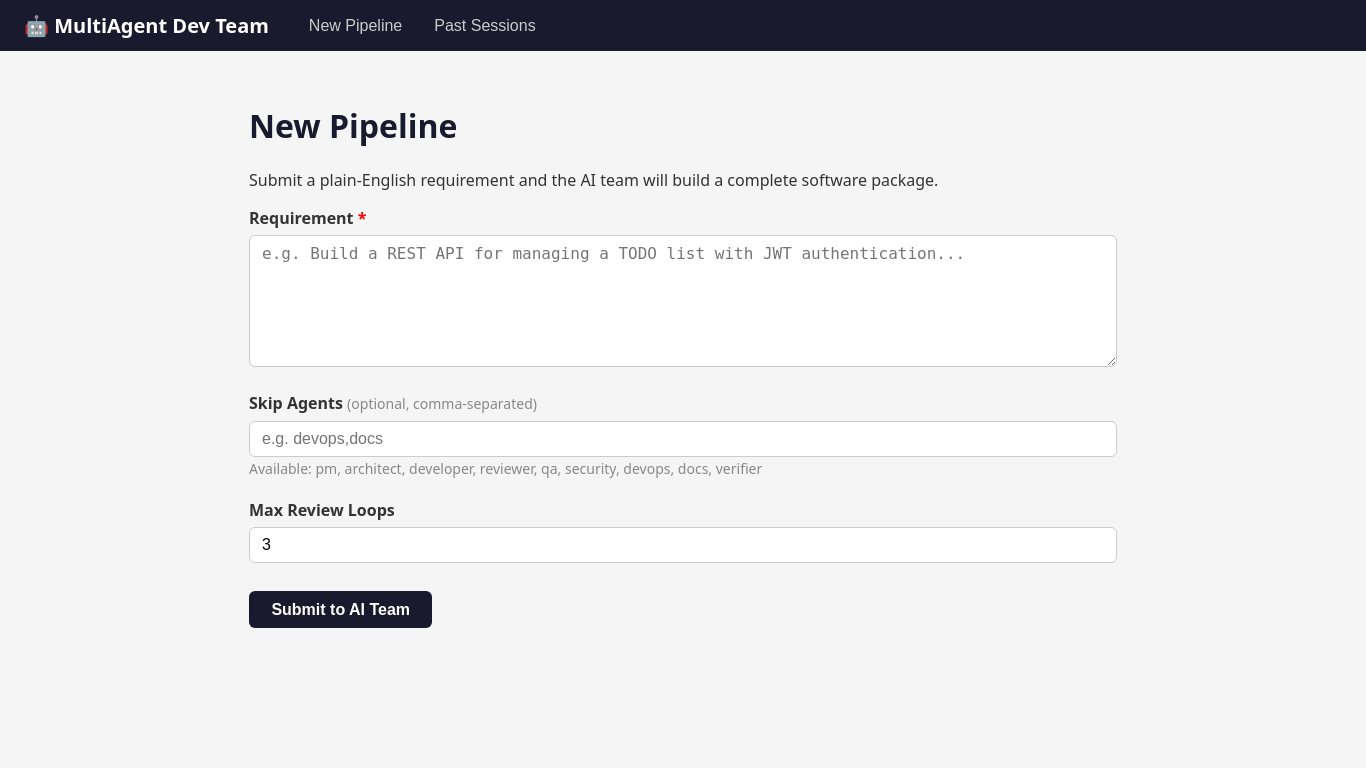
Test: App › shows progress log after submit
The image size is (1366, 768).
Type "Build a TODO REST API with authentication" into the text box with test id "requirement-input" at (683, 301), box x1=249 y1=235 x2=1117 y2=367
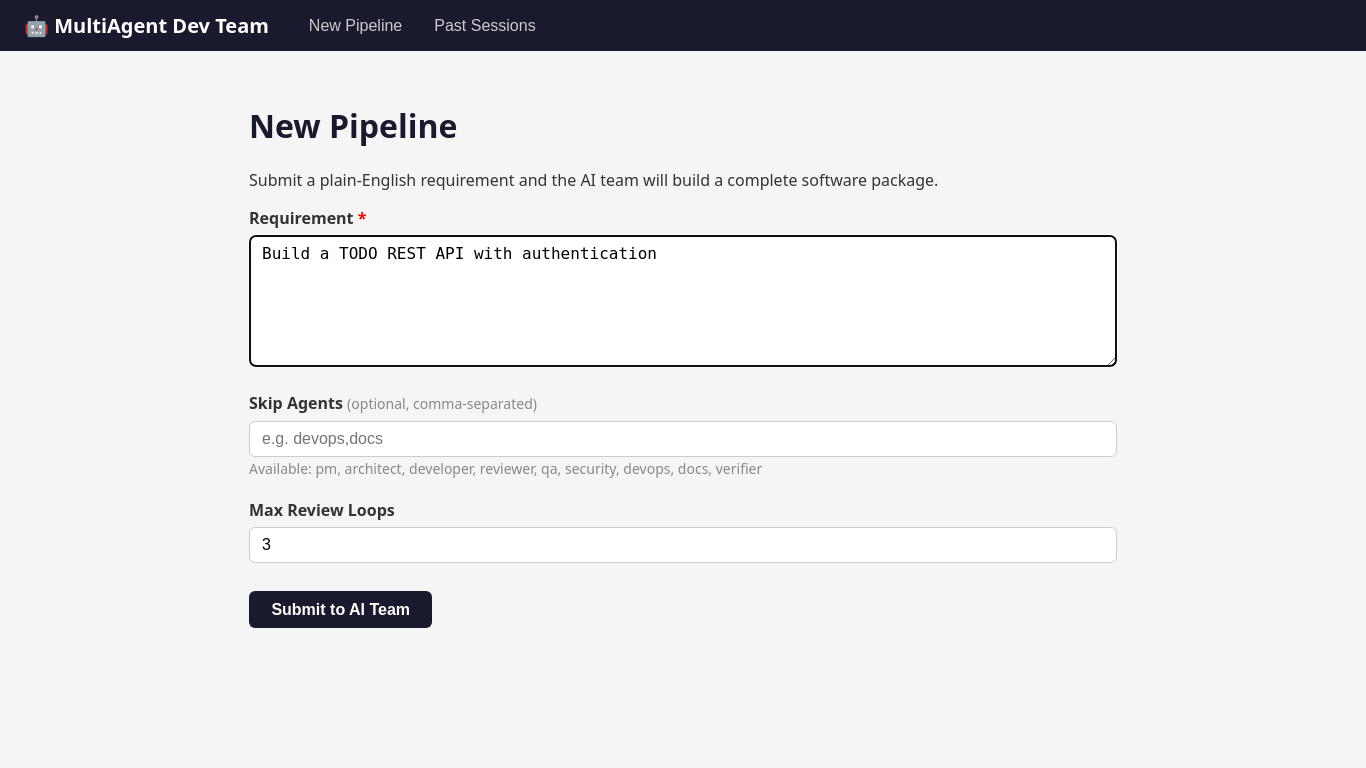
Submit the form with test id "pipeline-form", box x1=249 y1=207 x2=1117 y2=628
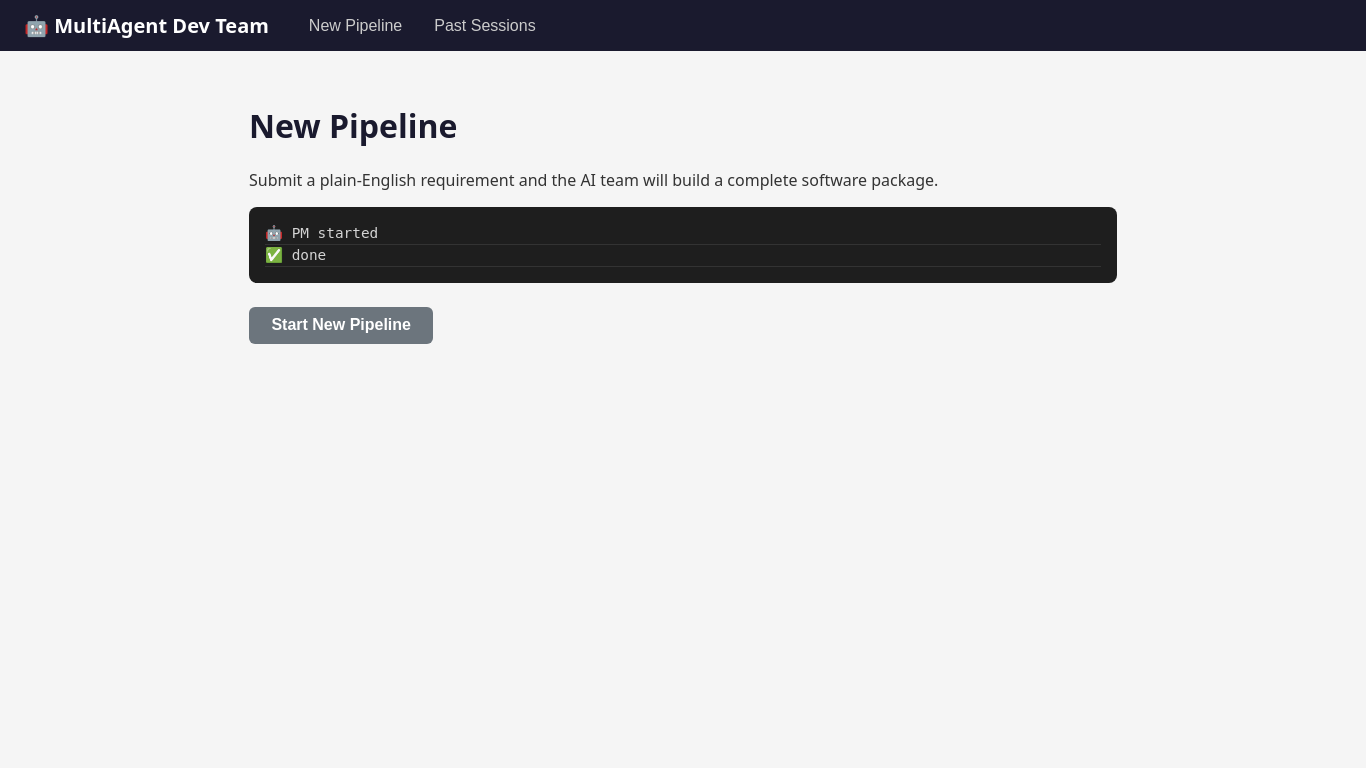
Expected: the element with test id "progress-log" is shown, x1=249 y1=207 x2=1117 y2=283
